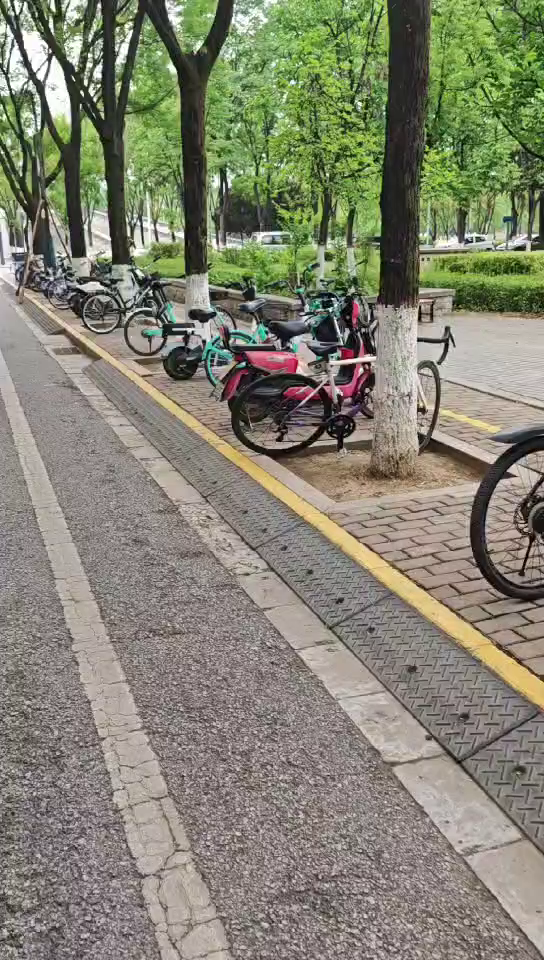others: (250, 348, 452, 454), (77, 272, 179, 330)
shared_bike_qingcong: (211, 286, 361, 400), (123, 270, 226, 358)
